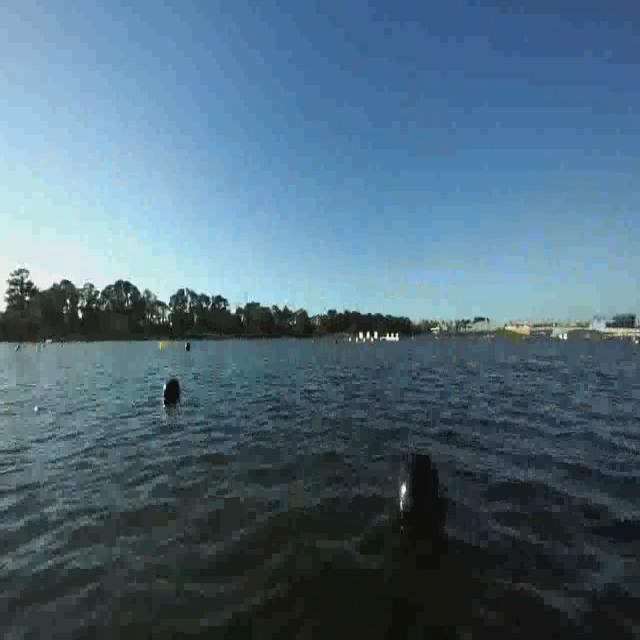black-buoy: (392, 444, 446, 536), (165, 378, 181, 404), (184, 343, 190, 353)
yellow-buoy: (161, 342, 166, 352)
